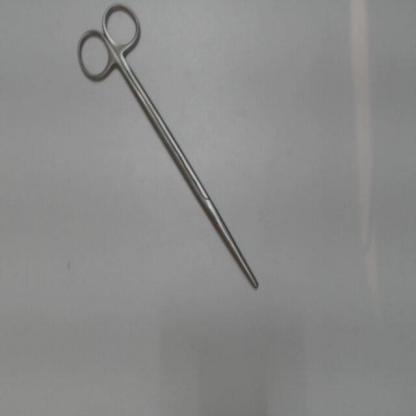9 Metzenbaum Scissors: (74, 1, 262, 295)
